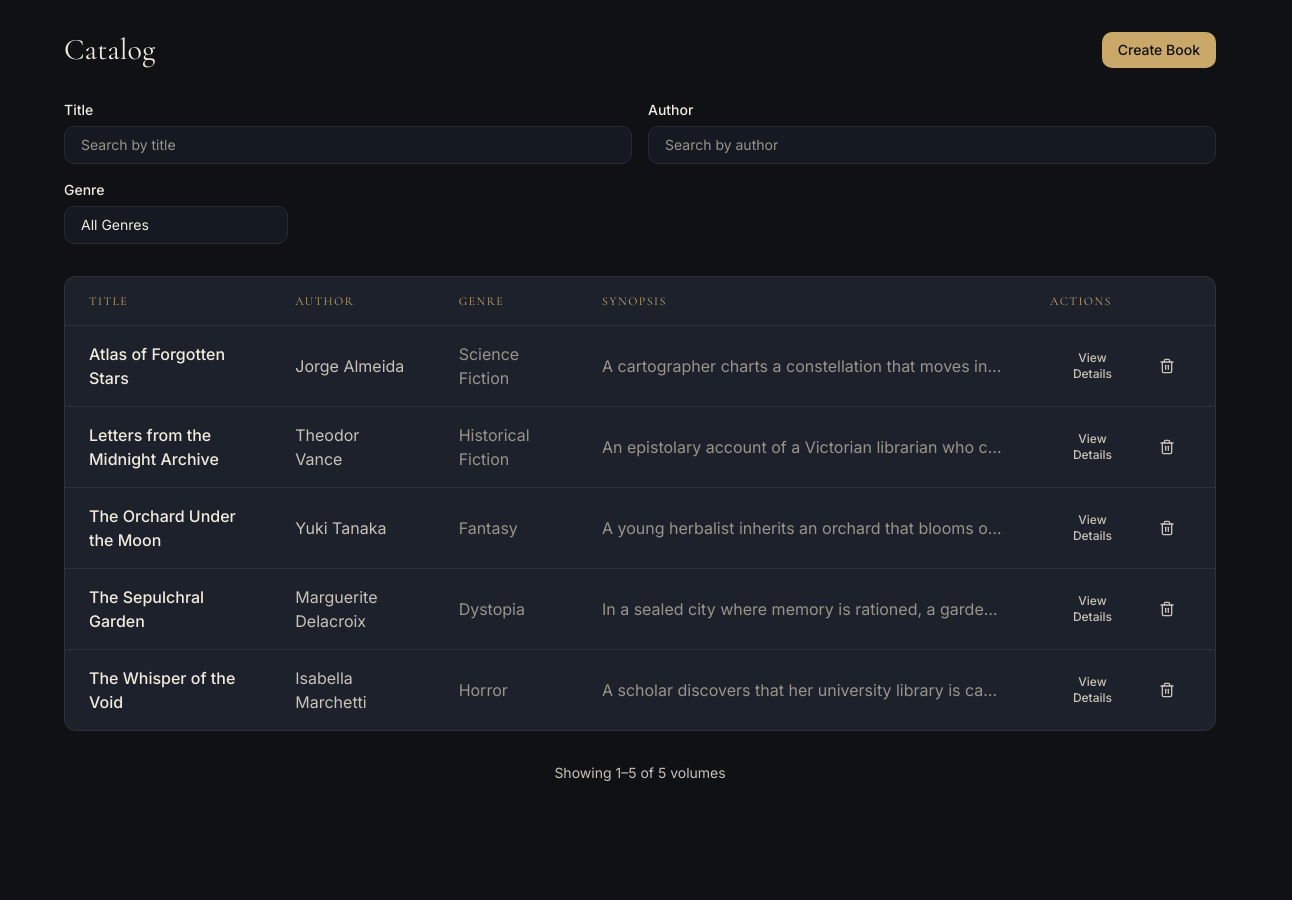
Test: BooksPage › filters books by author search
Expected: the text "The Whisper of the Void" is shown, [65,650,271,730]
In the search field labelled "Author": x=932, y=145 [648,126,1216,164], type "Almeida"
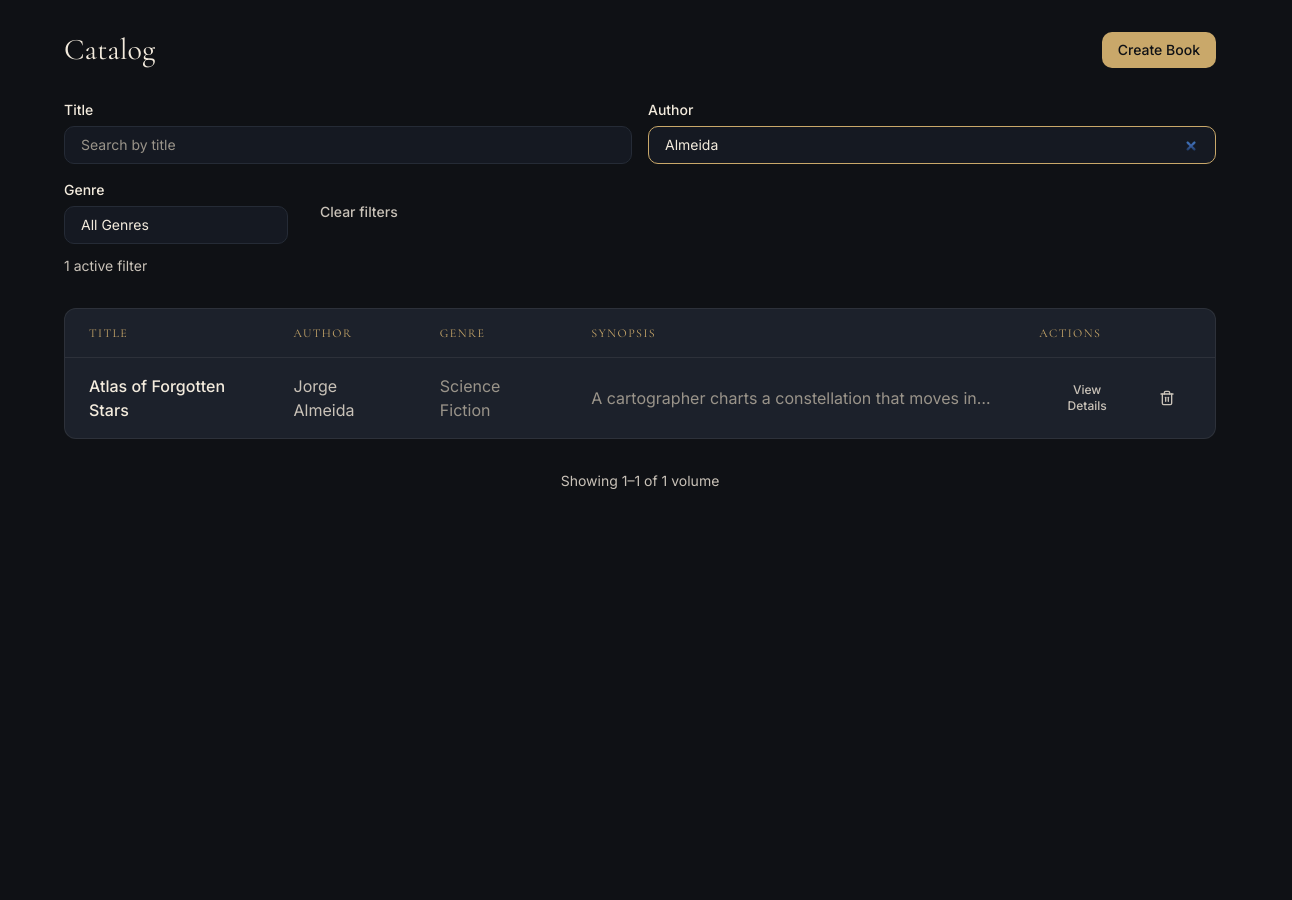
Expected: the text "Atlas of Forgotten Stars" is shown, [65,358,270,438]
Expected: the text "The Whisper of the Void" is gone
